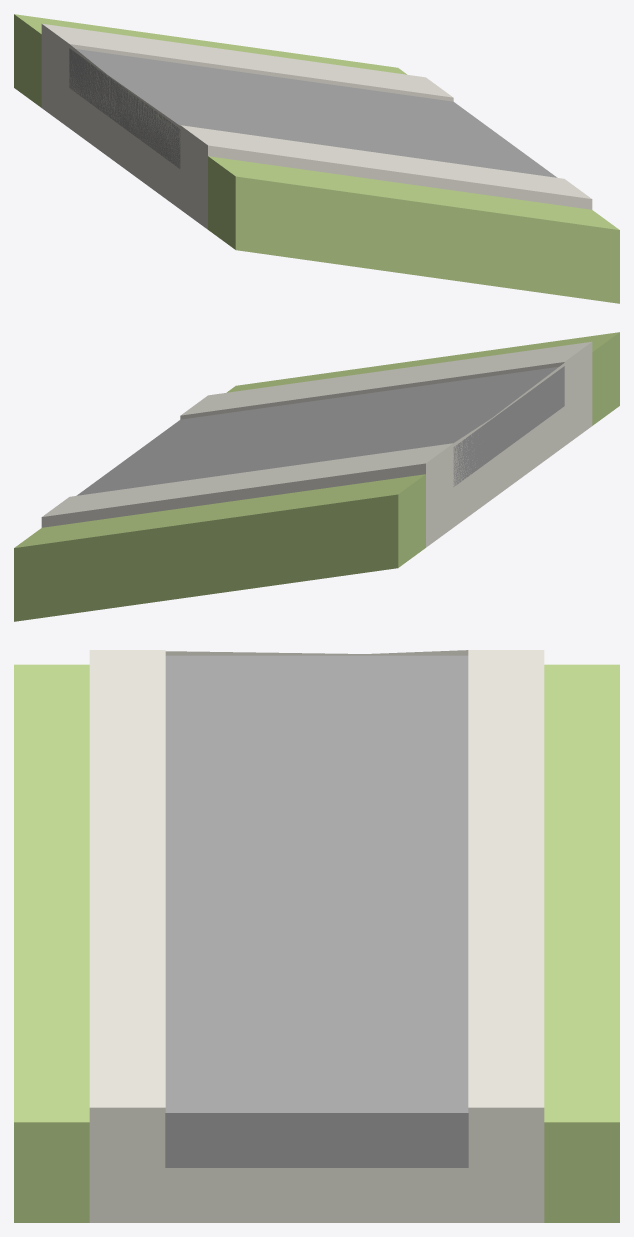
File: roadTile_161.glb
3 views of the same model, one above another, from view 1: azimuth 30°, elevation 25°; view 2: azimuth 150°, elevation 25°; view 3: azimuth 270°, elevation 25° (orthographic). The views are drawn at different scales.
Visible parts, largest first — view 1: roadTile_161; view 2: roadTile_161; view 3: roadTile_161.
Part boxes in pixels (x1,y1,x2,y2): roadTile_161: (14, 14, 619, 303); roadTile_161: (14, 332, 619, 621); roadTile_161: (14, 650, 619, 1222).
Size of the model in its own units: 3 by 1.73 by 3.
